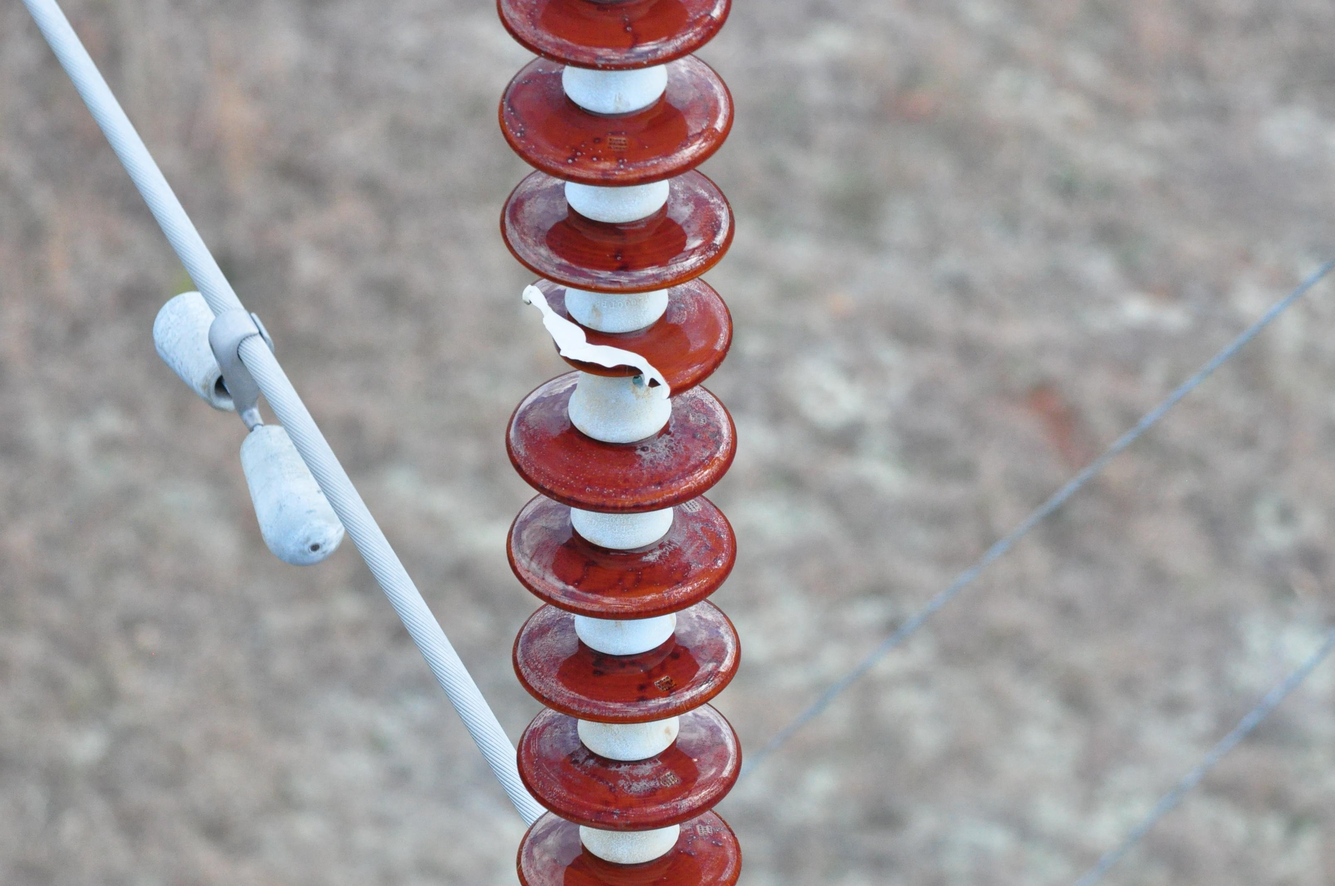damaged: (523, 284, 683, 400)
hammer: (150, 292, 347, 566)
insulator: (491, 0, 747, 886)
